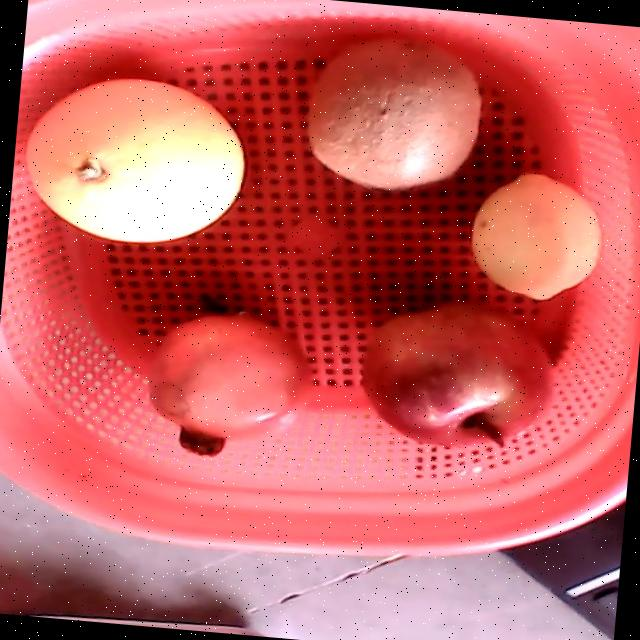apple: (360, 296, 551, 449)
kiwi: (305, 28, 480, 191)
lemon: (470, 173, 602, 300)
orange: (22, 77, 244, 245)
pomegranate: (146, 311, 308, 455)
